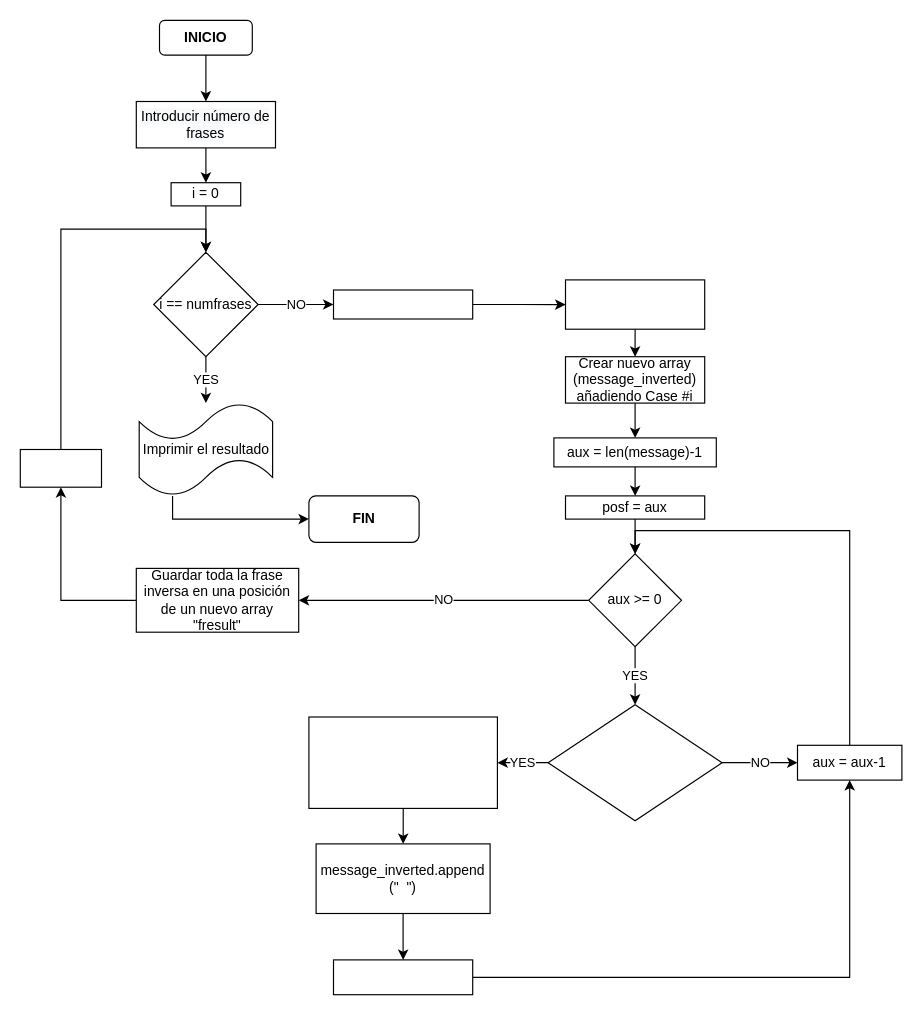
Image size: 922x1015. Some labels were removed from this diagram. Here are the shapes that lost their labels. From the top down, the centre of each, then its label:
the point at 402,304: Introduce frase
the point at 634,304: Convertir frase en un array (message) por caracteres
the point at 60,467: i = i+1
the point at 402,762: message_inverted.extend (message[(aux+1):(posf+1)])
the point at 634,762: message[aux] == " "
the point at 402,977: posf = aux-1
